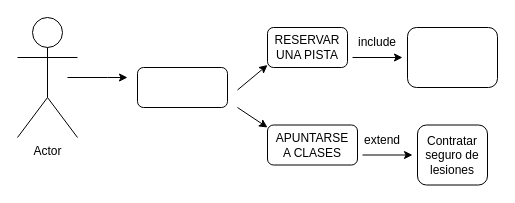
Some shapes in this 515 by 203 pixel diagram are drawn without their labels. Here are the shapes that lost their labels. From the top down, the box of each, then its label:
(406, 26, 498, 88): Verificar si el socio tiene pagos pendientes
(136, 66, 228, 108): IDENTIFICARSE
